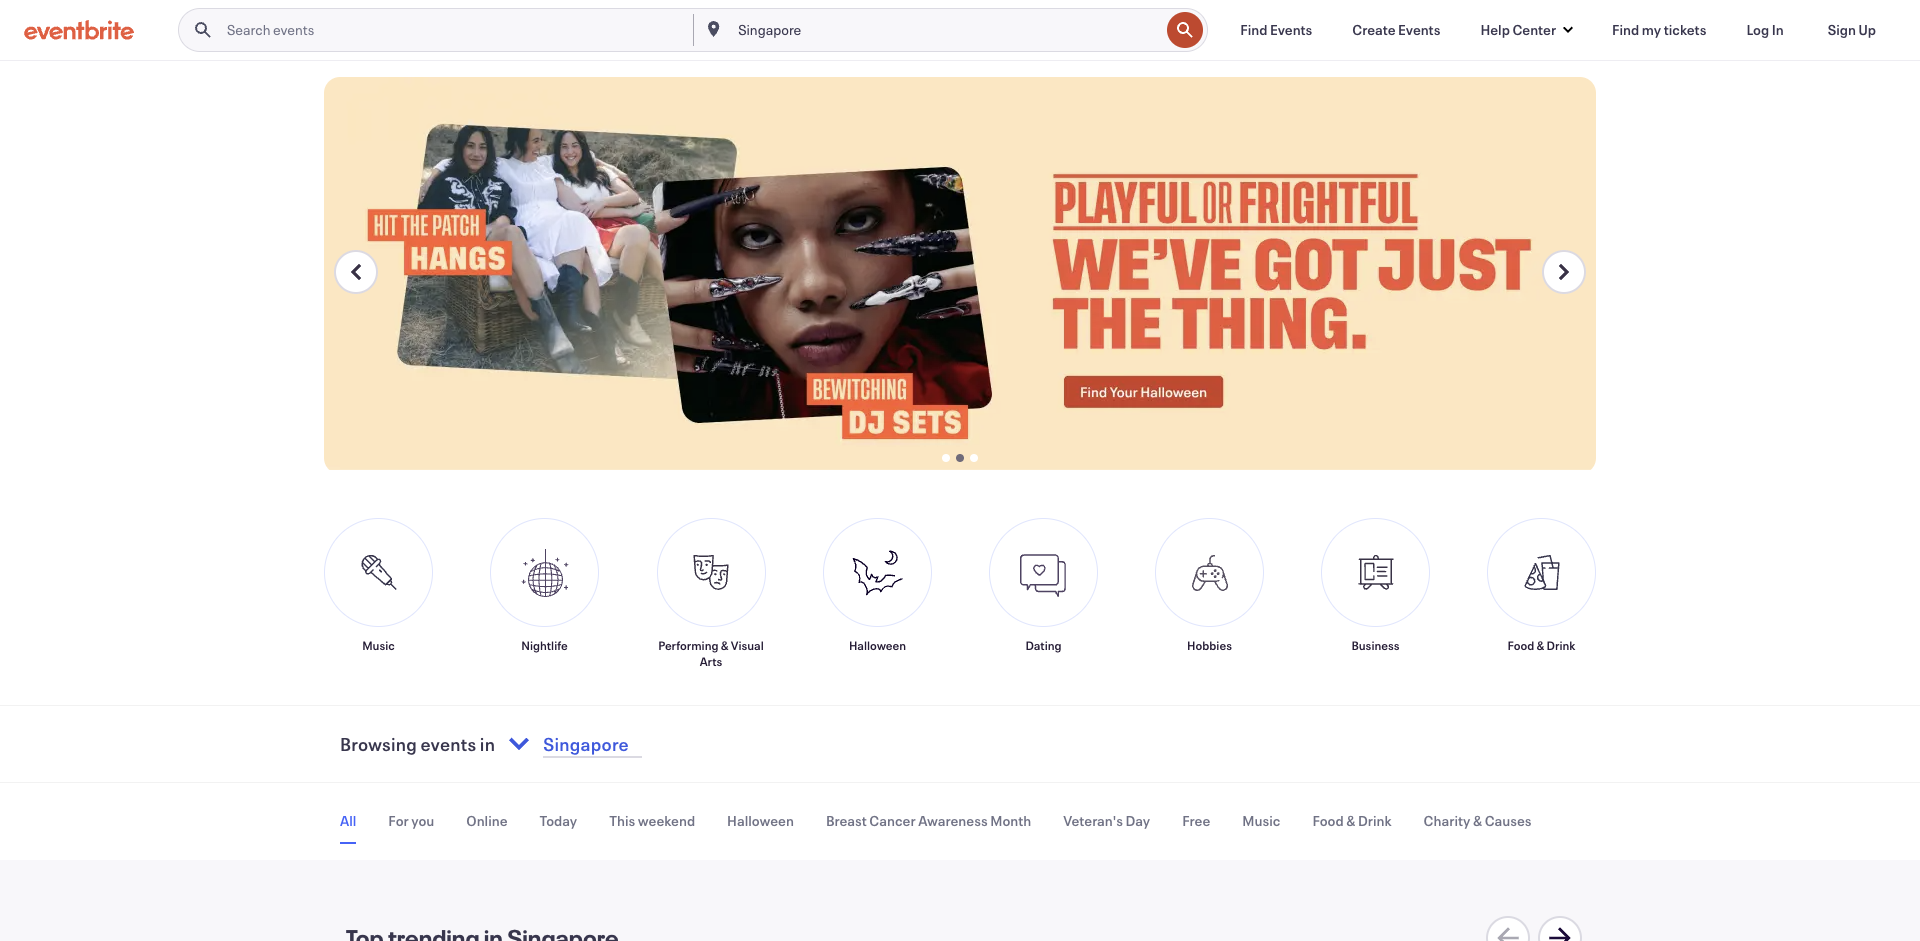button: (825, 799, 1031, 842), (1424, 799, 1532, 842), (1063, 799, 1150, 842), (610, 799, 696, 842), (1313, 799, 1391, 842), (727, 799, 793, 842), (388, 799, 435, 842), (334, 250, 378, 294), (1542, 250, 1586, 294), (467, 799, 508, 842), (1243, 799, 1281, 842), (540, 799, 577, 842), (1167, 12, 1204, 48), (1182, 799, 1210, 842), (1487, 916, 1531, 941), (1538, 916, 1582, 941), (340, 799, 356, 844)
dropdown: (702, 7, 1167, 53), (495, 718, 795, 769), (1464, 9, 1588, 51), (1464, 10, 1588, 50)
input: (227, 6, 681, 54), (726, 7, 1167, 53), (538, 720, 793, 768)
label: (495, 720, 544, 768), (702, 17, 726, 40)
link: (324, 77, 1596, 474), (1596, 77, 1920, 474), (656, 518, 767, 669), (324, 518, 433, 669), (490, 518, 599, 669), (823, 518, 932, 669), (989, 518, 1098, 669), (1155, 518, 1264, 669), (1321, 518, 1430, 669), (1487, 518, 1596, 669), (1596, 10, 1723, 50), (1336, 10, 1456, 50), (1224, 10, 1329, 50), (1807, 10, 1896, 50), (24, 15, 133, 45), (1730, 10, 1800, 50)
